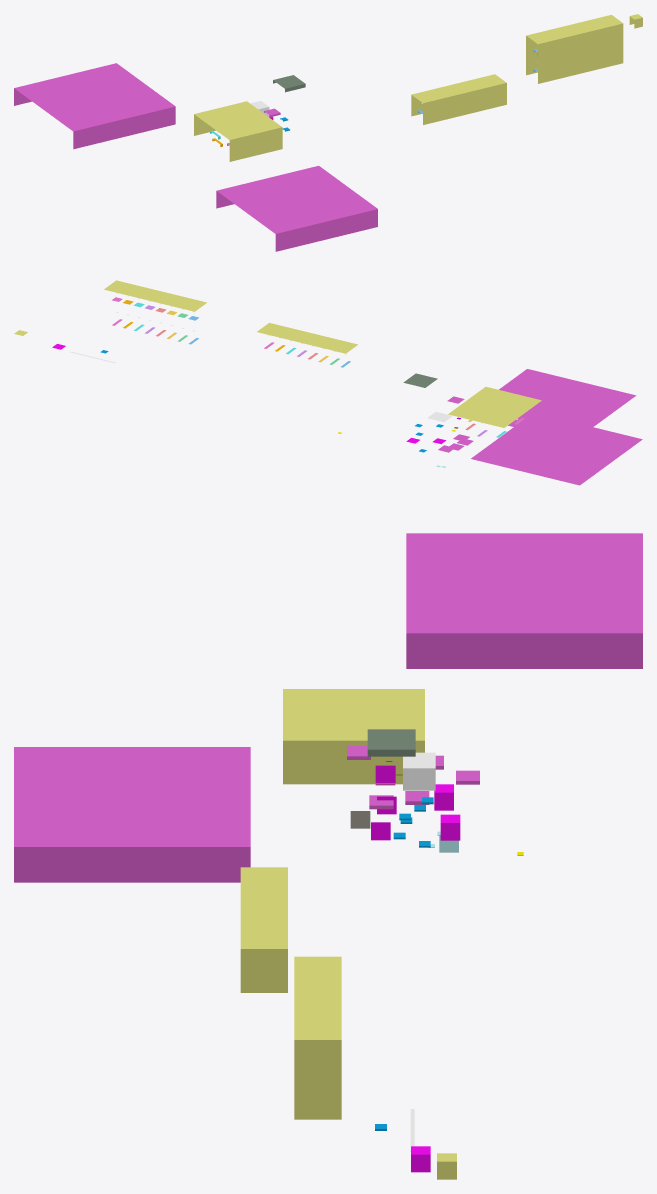
3 renders of one model, top to bottom at view 1: azimuth 30°, elevation 25°; view 2: azimuth 150°, elevation 25°; view 3: azimuth 270°, elevation 25°, orthographic. The views are drawn at different scales.
Visible parts, largest first — view 1: HitZone_2147482394 (copy), HitZone_2147482394, Faders (×2), Mixer; view 2: HitZone_2147482394, HitZone_2147482394 (copy), Faders (×2), Mixer; view 3: HitZone_2147482394, HitZone_2147482394 (copy), Faders (×2), Mixer, HitZone_2147482397, GroupIE_2147482345.
Boxes of the visible parts, box(x1,y1,x2,y2) form: HitZone_2147482394 (copy): box(216, 165, 377, 251); HitZone_2147482394: box(14, 63, 175, 149); Faders (×2): box(194, 74, 506, 161); Mixer: box(526, 15, 623, 83); HitZone_2147482394: box(471, 412, 642, 485); HitZone_2147482394 (copy): box(499, 369, 636, 426); Faders (×2): box(257, 323, 541, 427); Mixer: box(104, 280, 206, 311); HitZone_2147482394: box(406, 533, 642, 668); HitZone_2147482394 (copy): box(14, 747, 250, 882); Faders (×2): box(240, 689, 424, 992); Mixer: box(294, 956, 341, 1119); HitZone_2147482397: box(367, 729, 415, 756); GroupIE_2147482345: box(403, 752, 435, 790).
Size of what is drawn, in the model's own units: 1689 by 210 by 797.
